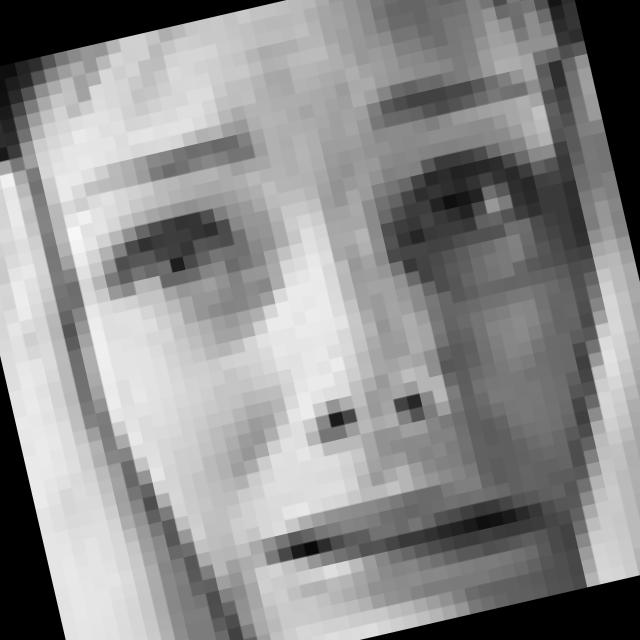fear: (48, 55, 638, 640)
